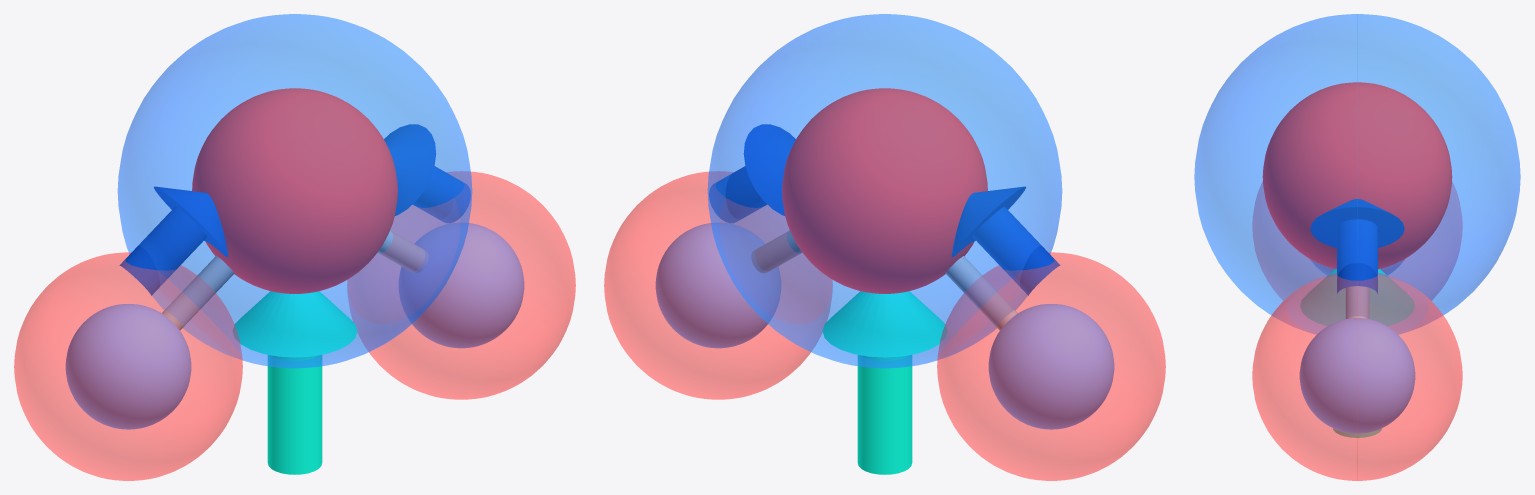
The picture shows the model from 3 angles, left to right: view 1: azimuth 30°, elevation 25°; view 2: azimuth 150°, elevation 25°; view 3: azimuth 270°, elevation 25°; orthographic projection. The views are drawn at different scales.
Parts seen in each view (by area): view 1: dminus, dp2, dp1, O, H2, H1, net_s, net_c, bd1_s, bd0_c, b2, bd0_s (+2 smaller); view 2: dminus, dp2, dp1, O, H2, H1, net_s, net_c, bd1_s, bd0_c, b2, bd0_s (+2 smaller); view 3: dminus, dp1, O, H1, dp2, net_c, bd0_s, bd0_c, b1.
Boxes of the visible parts, x1,y1,x2,y2 form: dminus: (117, 14, 472, 368); dp2: (14, 252, 242, 480); dp1: (347, 171, 575, 399); O: (192, 88, 397, 293); H2: (65, 304, 191, 429); H1: (399, 223, 524, 348); net_s: (267, 355, 322, 474); net_c: (233, 291, 357, 357); bd1_s: (119, 206, 206, 295); bd0_c: (384, 124, 436, 215); b2: (162, 256, 234, 330); bd0_s: (413, 166, 470, 222); dminus: (707, 14, 1062, 368); dp2: (937, 252, 1165, 480); dp1: (604, 171, 832, 399); O: (782, 88, 987, 293); H2: (988, 304, 1114, 429); H1: (655, 223, 780, 348); net_s: (857, 355, 912, 474); net_c: (822, 291, 946, 357); bd1_s: (973, 206, 1060, 295); bd0_c: (743, 124, 795, 215); b2: (945, 256, 1017, 330); bd0_s: (709, 166, 766, 222); dminus: (1194, 14, 1520, 334); dp1: (1252, 273, 1462, 480); O: (1262, 82, 1452, 269); H1: (1299, 318, 1415, 433); dp2: (1252, 182, 1462, 300); net_c: (1300, 269, 1414, 325); bd0_s: (1337, 219, 1377, 293); bd0_c: (1310, 199, 1404, 247); b1: (1346, 286, 1368, 318).
Size of the model in its own units: 0.2144 by 0.167 by 0.124.
